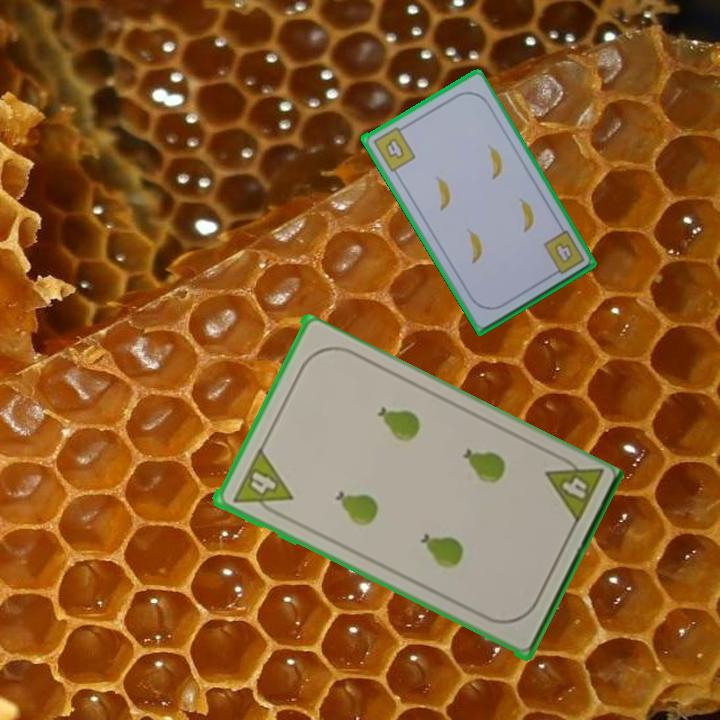4b: (369, 122, 418, 174), (550, 239, 576, 267)
4p: (540, 449, 606, 529), (229, 446, 294, 521)
